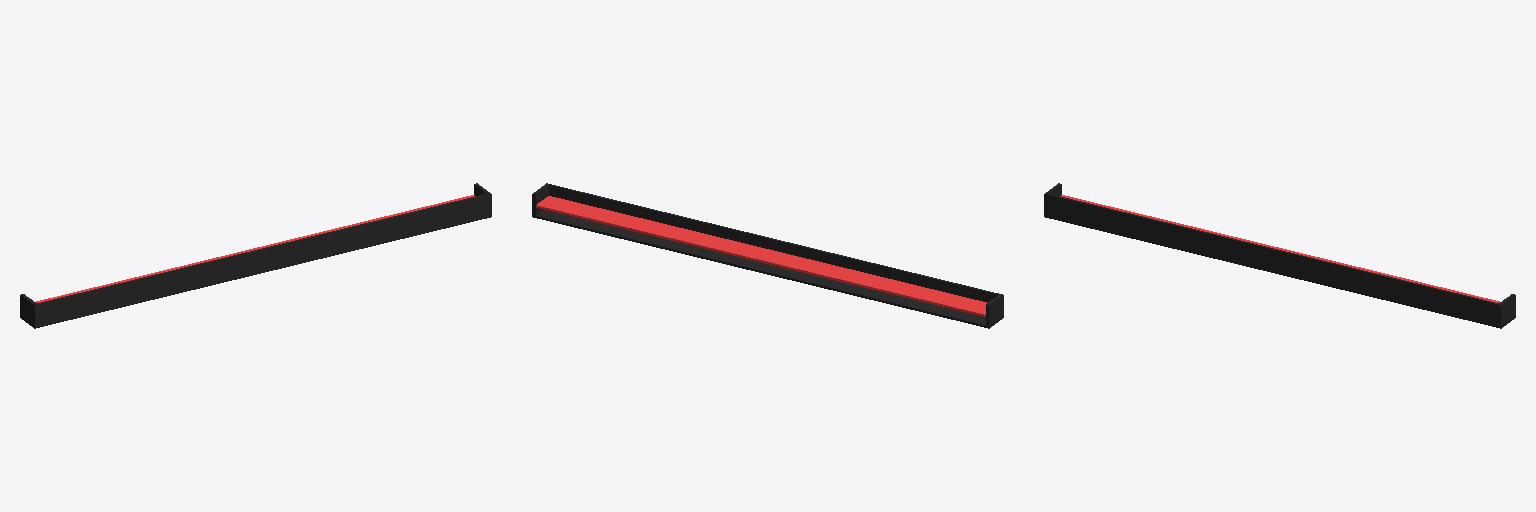
URDF robot description (shelf):
<?xml version="1.0"?>
<robot name="shelf">
    <material name="gray">
        <color rgba="0.2 0.2 0.2 1.0"/>
    </material>

    <link name="base">
        <inertial>
            <origin xyz="0.0 0.0 0.0" rpy="0.0 0.0 0.0"/>
            <mass value="40"/>
            <inertia ixx="0.0" ixy="0.0" ixz="0.0" iyy="0.0" iyz="0.0" izz="0.0"/>
        </inertial>

        <visual>
            <origin xyz="0.0 0.0 0.0" rpy="0.0 0.0 0.0"/>
            <geometry>
                <box size="20 1 0.1"/>
            </geometry>
            <material name="gray"/>
        </visual>

        <collision>
            <origin xyz="0.0 0.0 0.0" rpy="0.0 0.0 0.0"/>
            <geometry>
                <box size="20 1 0.1"/>
            </geometry>
        </collision>
    </link>

    <link name="left_side">
        <inertial>
            <origin xyz="0.0 0.0 0.0" rpy="0.0 0.0 0.0"/>
            <mass value="20"/>
            <inertia ixx="0.0" ixy="0.0" ixz="0.0" iyy="0.0" iyz="0.0" izz="0.0"/>
        </inertial>

        <visual>
            <origin xyz="0.0 0.0 0.0" rpy="0.0 0.0 0.0"/>
            <geometry>
                <box size="0.15 1 1"/>
            </geometry>
            <material name="gray"/>
        </visual>
        
        <collision>
            <origin xyz="0.0 0.0 0.0" rpy="0.0 0.0 0.0"/>
            <geometry>
                <box size="0.15 1 1"/>
            </geometry>
        </collision>
    </link>
    <joint name="left_side_joint" type="fixed">
        <origin xyz="-10.075 0.0 0.45" rpy="0.0 0.0 0.0"/>
        <parent link="base"/>
        <child link="left_side"/>
    </joint>

    <link name="right_side">
        <inertial>
            <origin xyz="0.0 0.0 0.0" rpy="0.0 0.0 0.0"/>
            <mass value="20"/>
            <inertia ixx="0.0" ixy="0.0" ixz="0.0" iyy="0.0" iyz="0.0" izz="0.0"/>
        </inertial>

        <visual>
            <origin xyz="0.0 0.0 0.0" rpy="0.0 0.0 0.0"/>
            <geometry>
                <box size="0.15 1 1"/>
            </geometry>
            <material name="gray"/>
        </visual>
        
        <collision>
            <origin xyz="0.0 0.0 0.0" rpy="0.0 0.0 0.0"/>
            <geometry>
                <box size="0.15 1 1"/>
            </geometry>
        </collision>
    </link>
    <joint name="right_side_joint" type="fixed">
        <origin xyz="10.075 0.0 0.45" rpy="0.0 0.0 0.0"/>
        <parent link="base"/>
        <child link="right_side"/>
    </joint>

    <link name="shelf">
        <inertial>
            <origin xyz="0.0 0.0 0.0" rpy="0.0 0.0 0.0"/>
            <mass value="40"/>
            <inertia ixx="0.0" ixy="0.0" ixz="0.0" iyy="0.0" iyz="0.0" izz="0.0"/>
        </inertial>

        <visual>
            <origin xyz="0.0 0.0 0.0" rpy="0.0 0.0 0.0"/>
            <geometry>
                <box size="20 1 0.1"/>
            </geometry>
            <material name="blue">
                <color rgba="1.0 0.3 0.3 1.0"/>
            </material>
        </visual>

        <collision>
            <origin xyz="0.0 0.0 0.0" rpy="0.0 0.0 0.0"/>
            <geometry>
                <box size="20 1 0.1"/>
            </geometry>
        </collision>
    </link>
    <joint name="shelf_joint" type="fixed">
        <origin xyz="10.075 0.0 0.0" rpy="0.0 0.0 0.0"/>
        <parent link="left_side"/>
        <child link="shelf"/>
    </joint>

    <link name="back">
        <inertial>
            <origin xyz="0.0 0.0 0.0" rpy="0.0 0.0 0.0"/>
            <mass value="40"/>
            <inertia ixx="0.0" ixy="0.0" ixz="0.0" iyy="0.0" iyz="0.0" izz="0.0"/>
        </inertial>

        <visual>
            <origin xyz="0.0 0.0 0.0" rpy="0.0 0.0 0.0"/>
            <geometry>
                <box size="20.3 0.1 1"/>
            </geometry>
            <material name="gray"/>
        </visual>

        <collision>
            <origin xyz="0.0 0.0 0.0" rpy="0.0 0.0 0.0"/>
            <geometry>
                <box size="20.3 0.1 1"/>
            </geometry>
        </collision>
    </link>
    <joint name="back_joint" type="fixed">
        <origin xyz="0.0 -0.55 0.0" rpy="0.0 0.0 0.0"/>
        <parent link="shelf"/>
        <child link="back"/>
    </joint>
</robot>

--- What the picture shows (computed from the rendered views, not written in the file) ---
Views: 3 orthographic renders of the robot side by side, from view 1: azimuth 30°, elevation 25°; view 2: azimuth 150°, elevation 25°; view 3: azimuth 330°, elevation 25°.
Model shelf with 5 links and 4 joints (4 fixed), rooted at base, posed every joint at zero.
Visible links, largest first — view 1: back, shelf; view 2: shelf, back, base; view 3: back, shelf.
Boxes of the visible links, x1,y1,x2,y2 form: back: [33, 193, 491, 328]; shelf: [36, 195, 474, 302]; shelf: [536, 196, 986, 316]; back: [546, 183, 1003, 318]; base: [536, 210, 985, 327]; back: [1044, 193, 1502, 328]; shelf: [1061, 195, 1499, 302].
Size in the robot's own frame: 20.3 by 1.1 by 1 metres.
Geometry: primitives only (box / cylinder / sphere), no mesh files.
